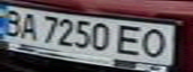0: (90, 20, 118, 53)
2: (54, 16, 75, 48)
5: (72, 18, 93, 51)
7: (36, 12, 60, 44)
A: (15, 10, 42, 42)
B: (0, 7, 27, 37)
E: (112, 21, 151, 56)
O: (136, 26, 175, 60)
